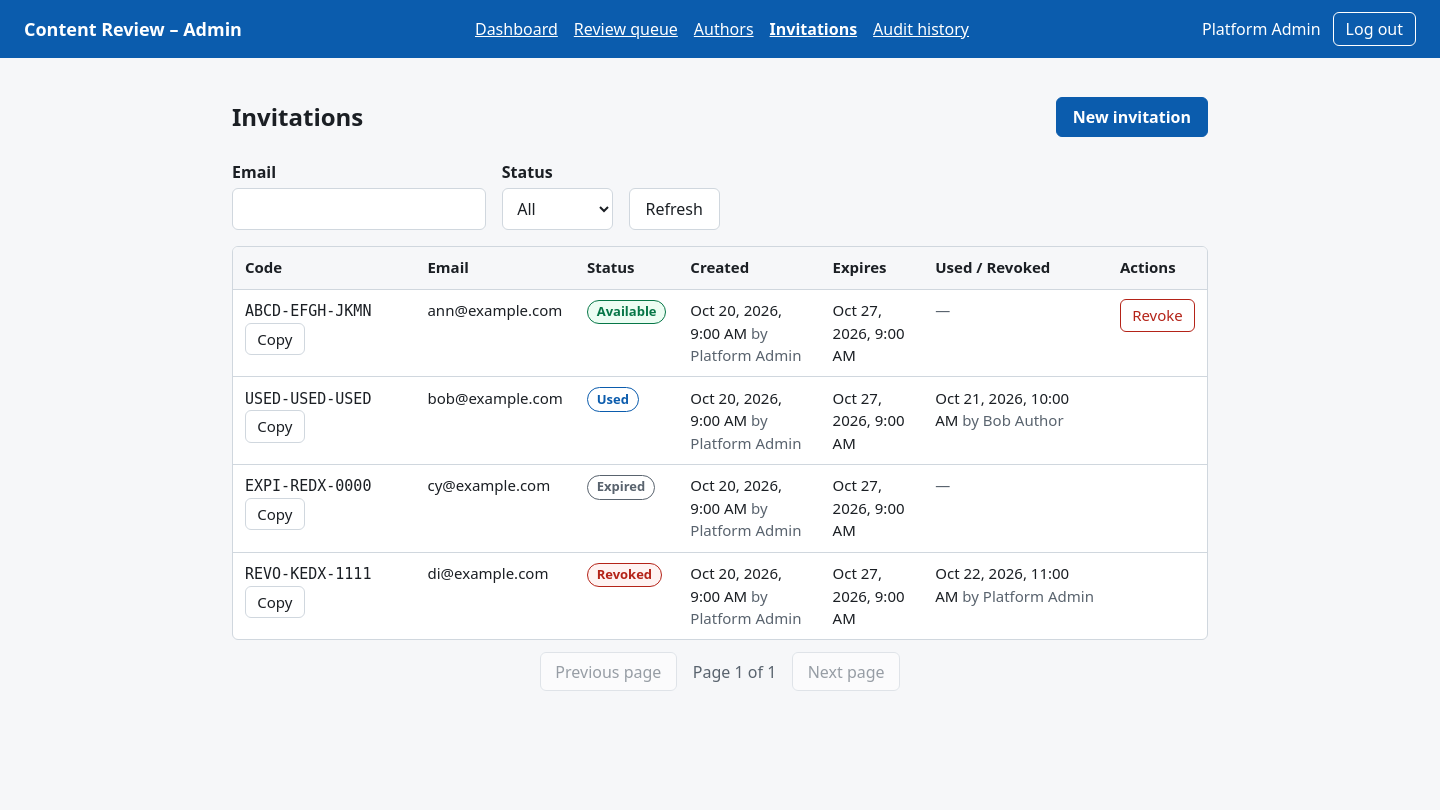
Test: revoking › asks for confirmation, and Cancel changes nothing
The image size is (1440, 810).
Expected: the heading "Invitations" is shown, [232,102,363,132]
Expected: the table is shown, [233,247,1207,639]
Click the button with test id "invitation-revoke-inv-available" at (1157, 315), box [1120,299,1195,332]
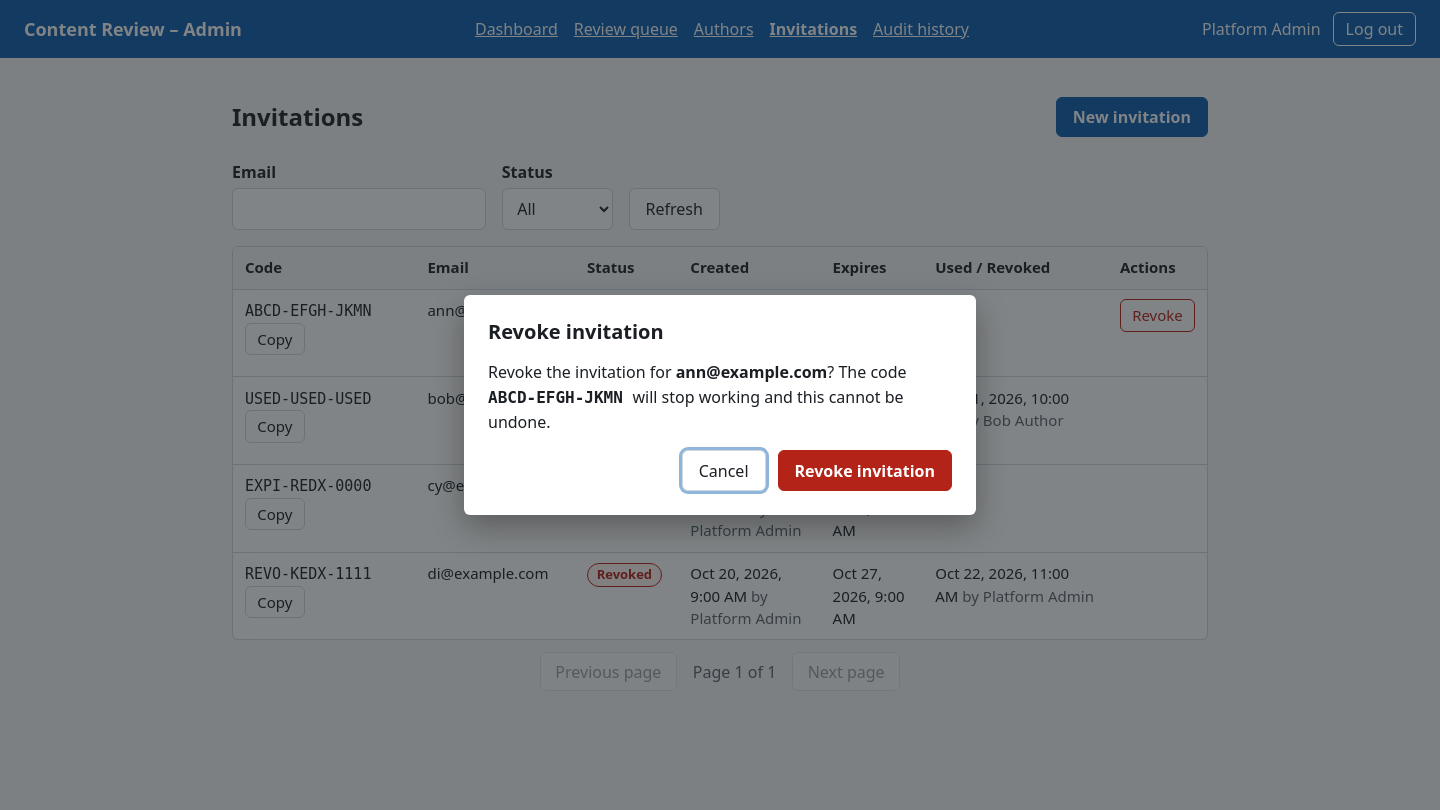
Result: the dialog "Revoke invitation" shows "ann@example.com" at [676,361,827,383]
Click the button "Cancel" at (724, 470), box [682,450,766,491]
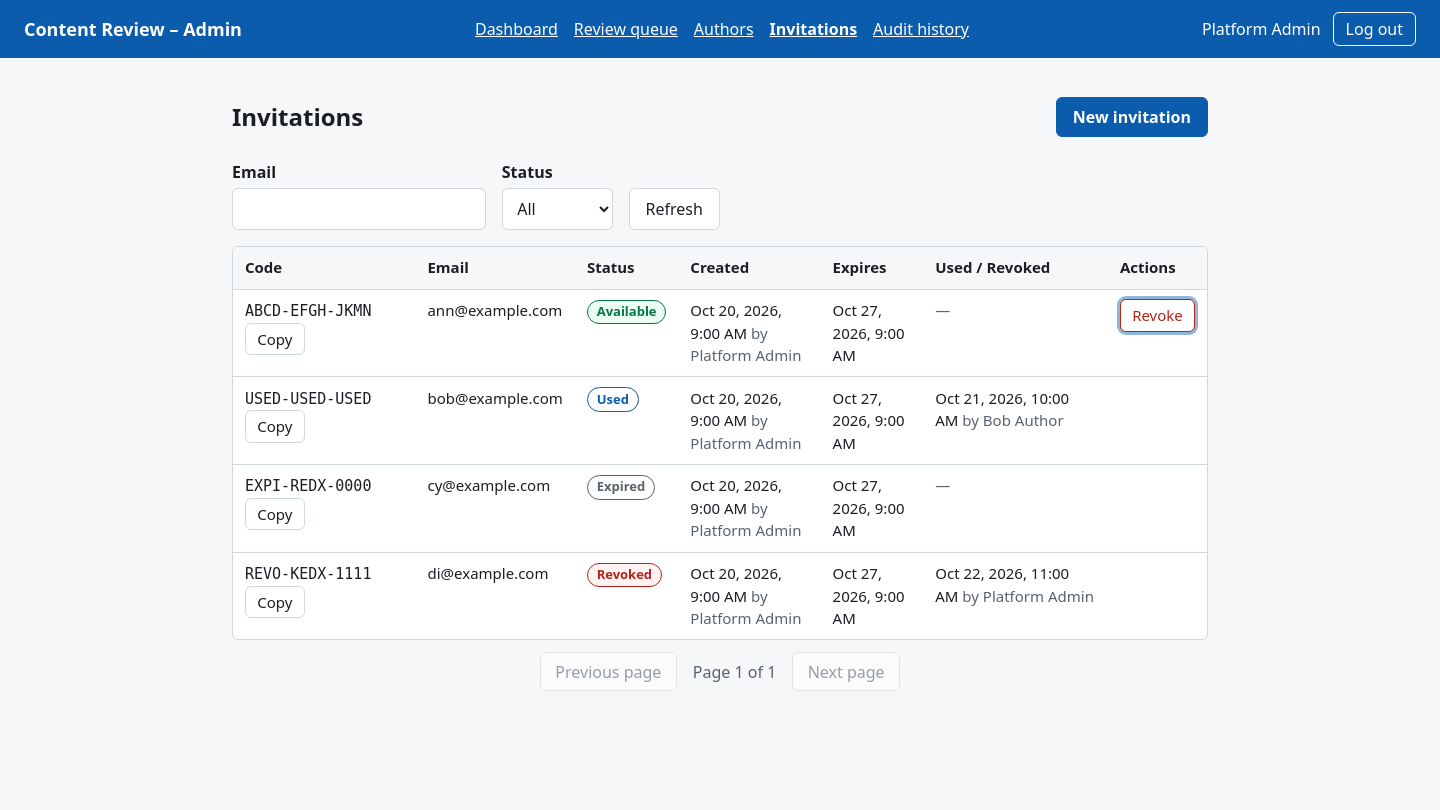
Result: the dialog is gone
